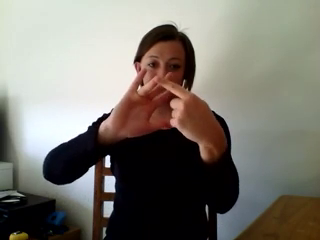O: (99, 61, 231, 147)
